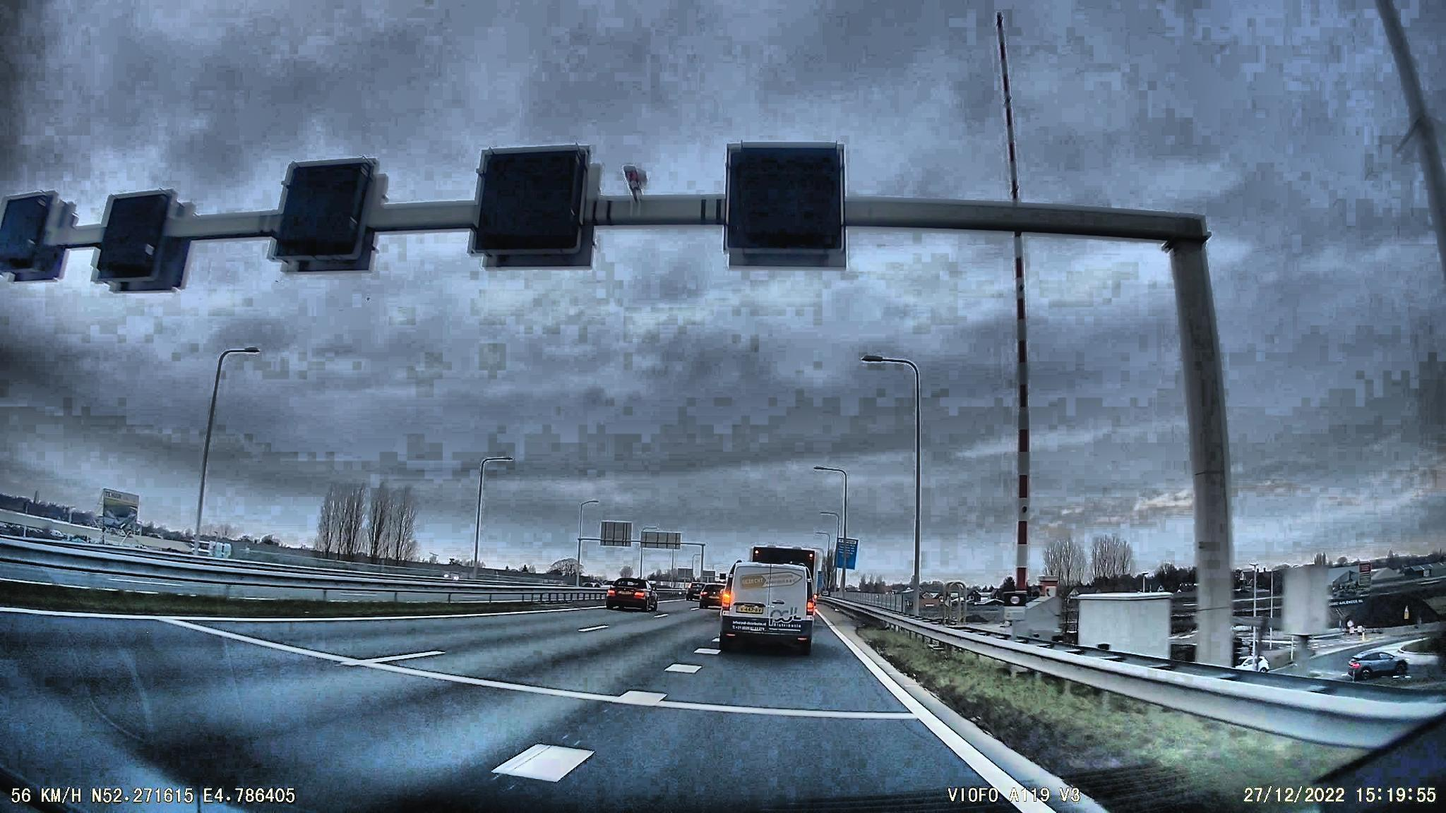Roads: (0, 609, 1108, 813)
